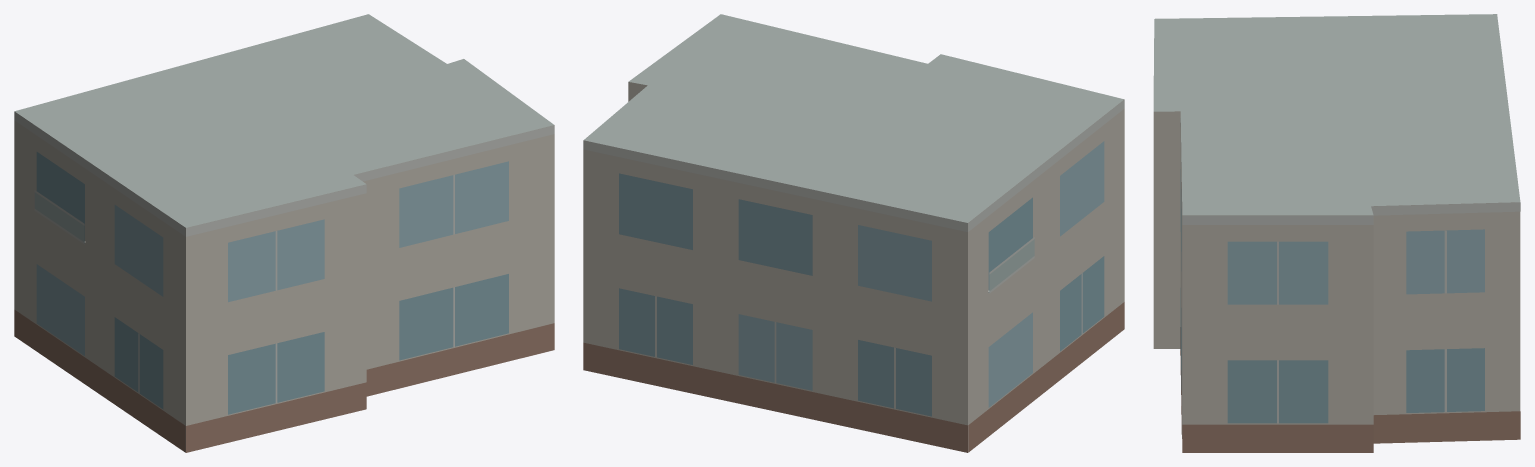
Rendered from survey-upis-32503486.glb.
The picture shows the model from 3 angles, left to right: view 1: azimuth 30°, elevation 25°; view 2: azimuth 150°, elevation 25°; view 3: azimuth 270°, elevation 25°; orthographic projection. The views are drawn at different scales.
Parts seen in each view (by area): view 1: survey-upis-32503486.tmp; view 2: survey-upis-32503486.tmp; view 3: survey-upis-32503486.tmp.
Part boxes in pixels (x1,y1,x2,y2): survey-upis-32503486.tmp: (14, 14, 554, 452); survey-upis-32503486.tmp: (583, 14, 1124, 452); survey-upis-32503486.tmp: (1153, 14, 1520, 452).
Size of the model in its own units: 11.11 by 6.1 by 8.56.
